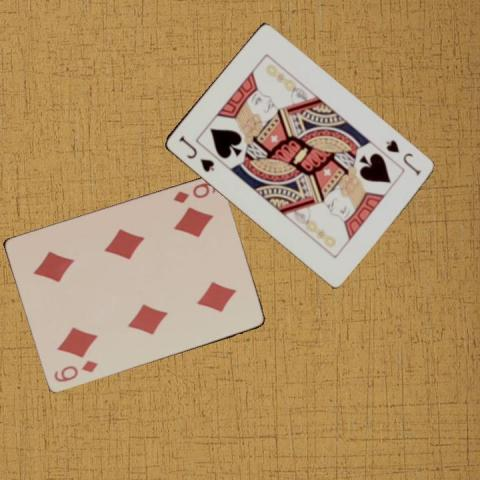6d: (51, 357, 100, 384), (170, 180, 217, 206)
Js: (176, 133, 216, 174), (382, 137, 423, 177)
